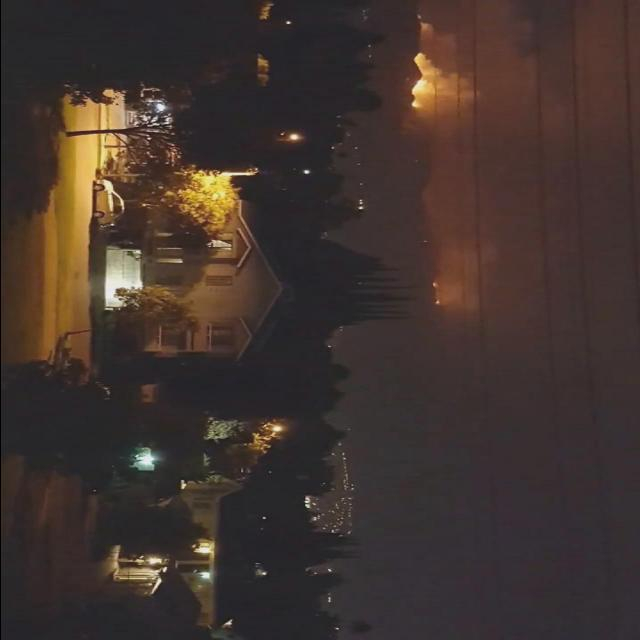Fire: (406, 53, 436, 111), (432, 298, 442, 304), (432, 282, 439, 288)
